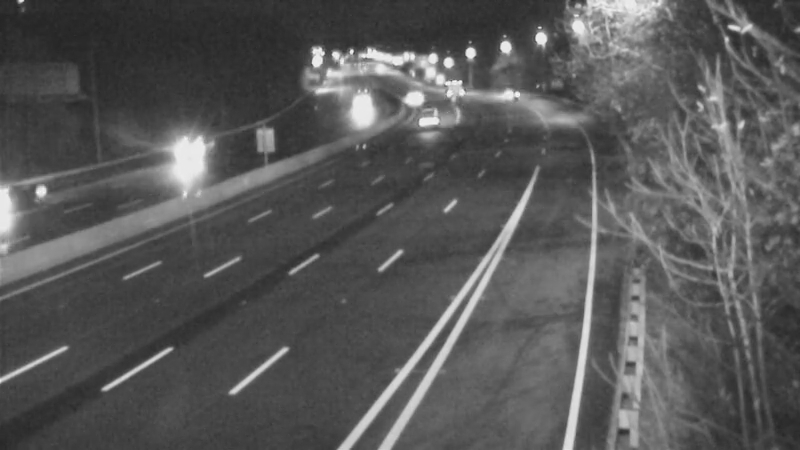vehicle: (148, 116, 228, 196), (1, 164, 67, 244), (476, 69, 526, 119), (425, 64, 475, 114), (387, 71, 437, 121), (407, 98, 457, 148), (339, 79, 389, 129)
